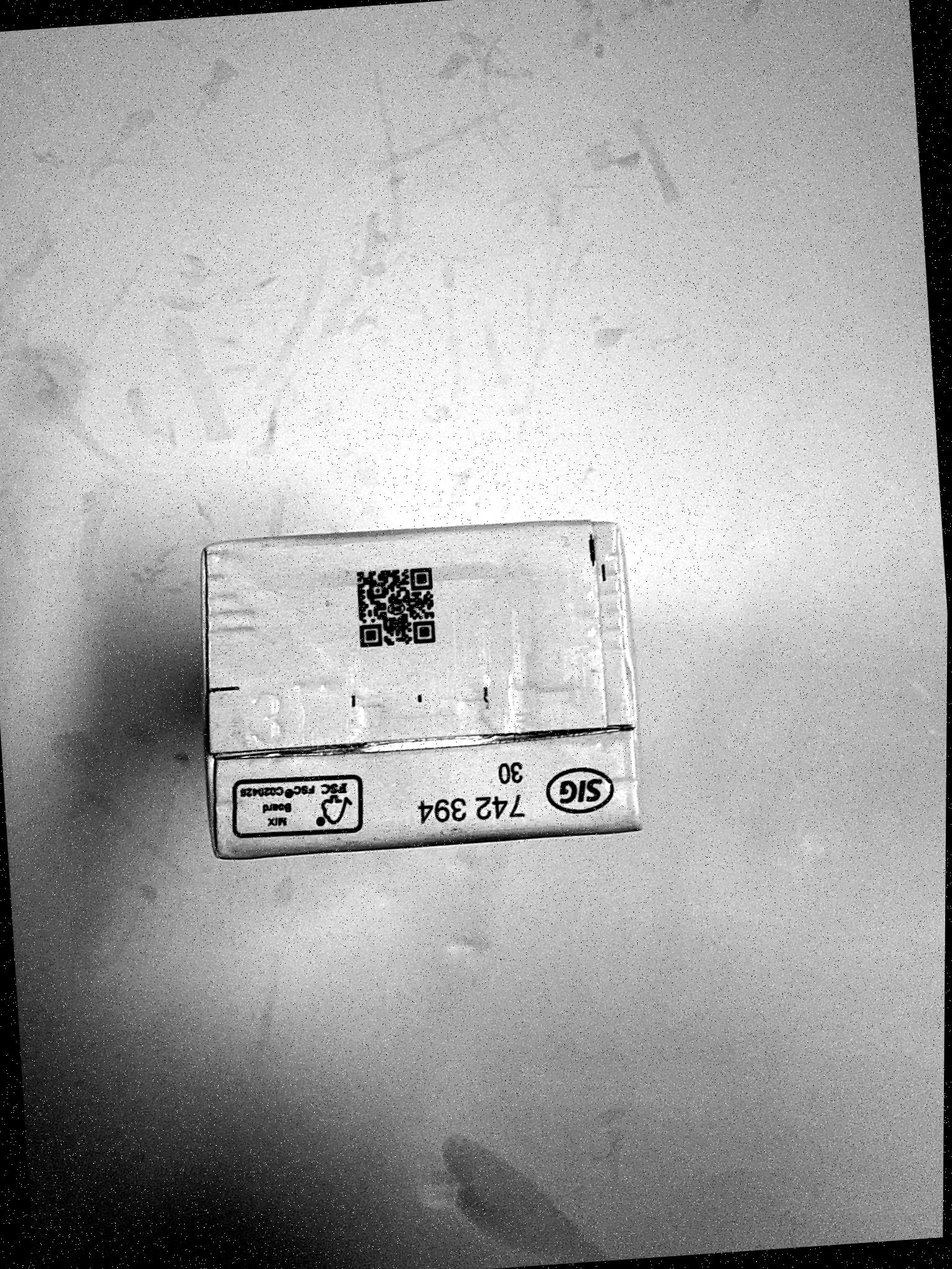milk_green: (201, 521, 640, 859)
